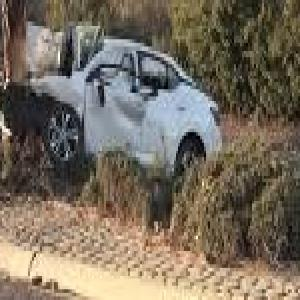severe: (0, 18, 226, 189)
